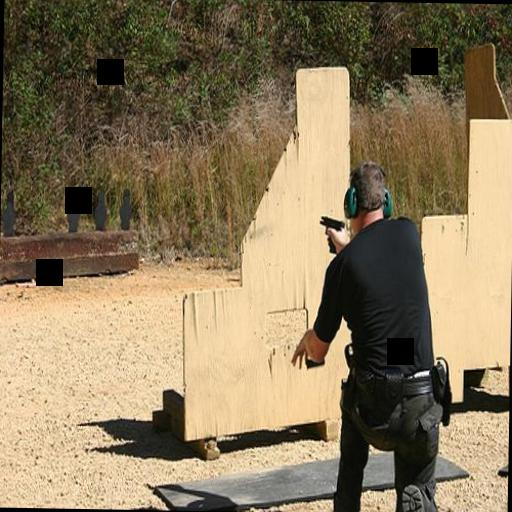Handgun: (317, 214, 345, 256)
